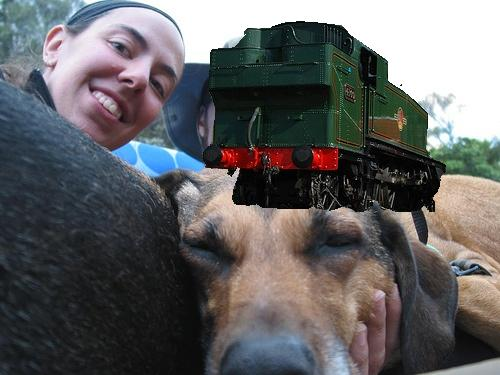tampered: (203, 22, 446, 212)
